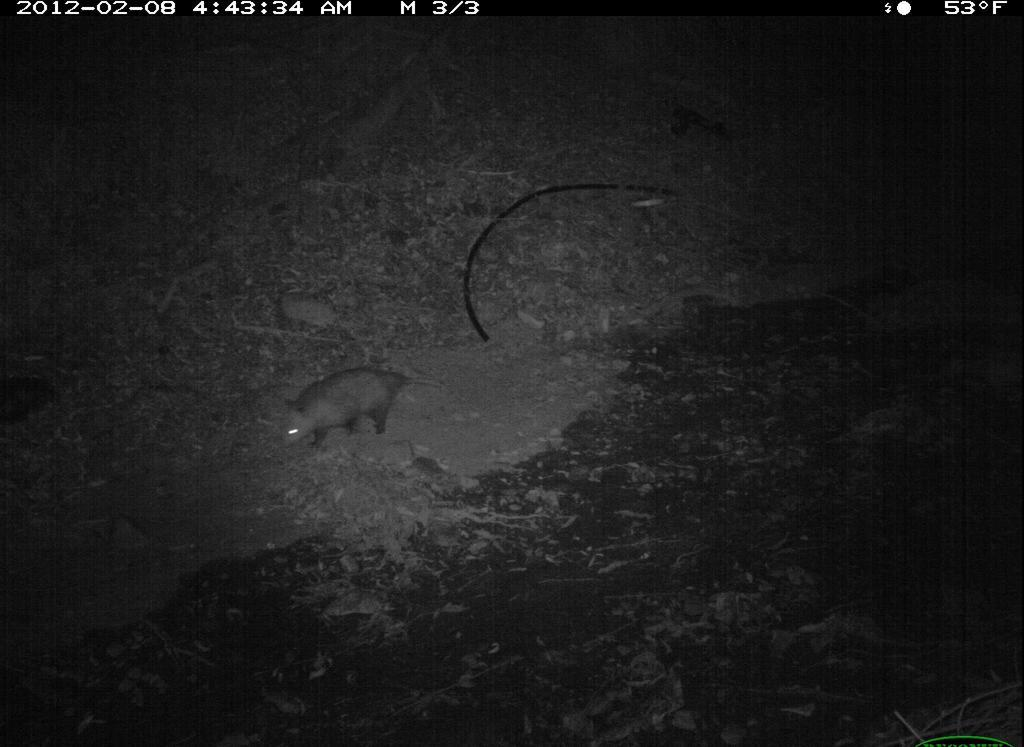opossum: (248, 359, 456, 456)
